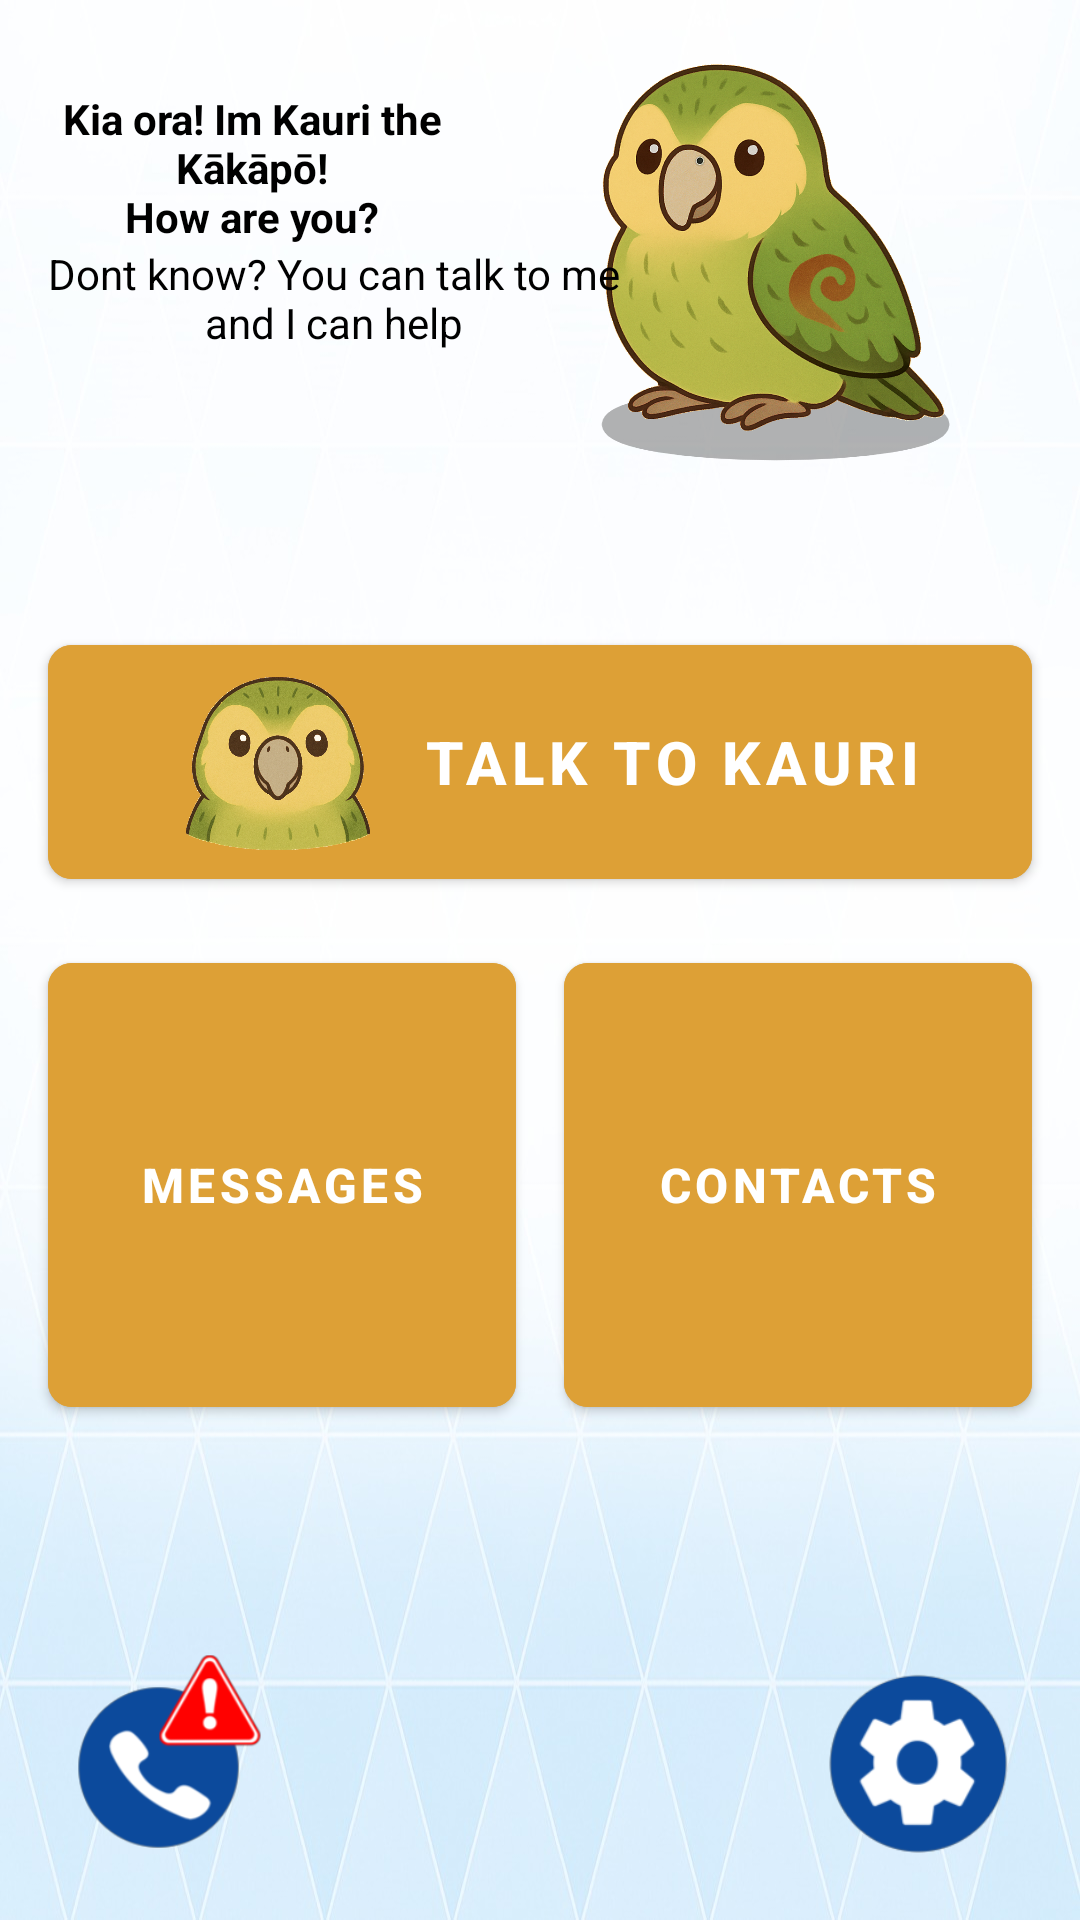

Where icons sit on this 1080w x 1920h app screen, as (x1, y1, x2, y2):
emergencybutton: (78, 1653, 267, 1848)
settingsbutton: (829, 1675, 1008, 1854)
